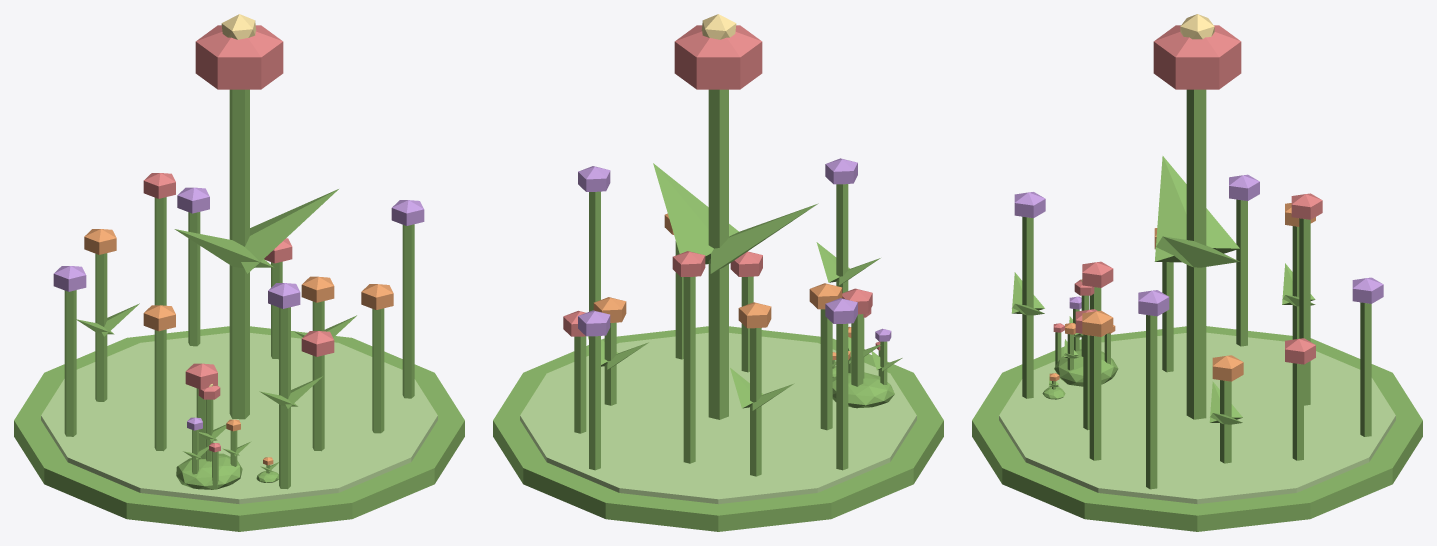
The model's file is meadow-g2.glb.
3 renders of one model, left to right at view 1: azimuth 30°, elevation 25°; view 2: azimuth 150°, elevation 25°; view 3: azimuth 270°, elevation 25°, orthographic.
Parts seen in each view (by area): view 1: meadow-g2; view 2: meadow-g2; view 3: meadow-g2.
Boxes of the visible parts, x1,y1,x2,y2 form: meadow-g2: (14, 14, 464, 531); meadow-g2: (493, 14, 943, 531); meadow-g2: (972, 14, 1422, 531).
Size of the model in its own units: 2.5 by 2.59 by 2.5.
